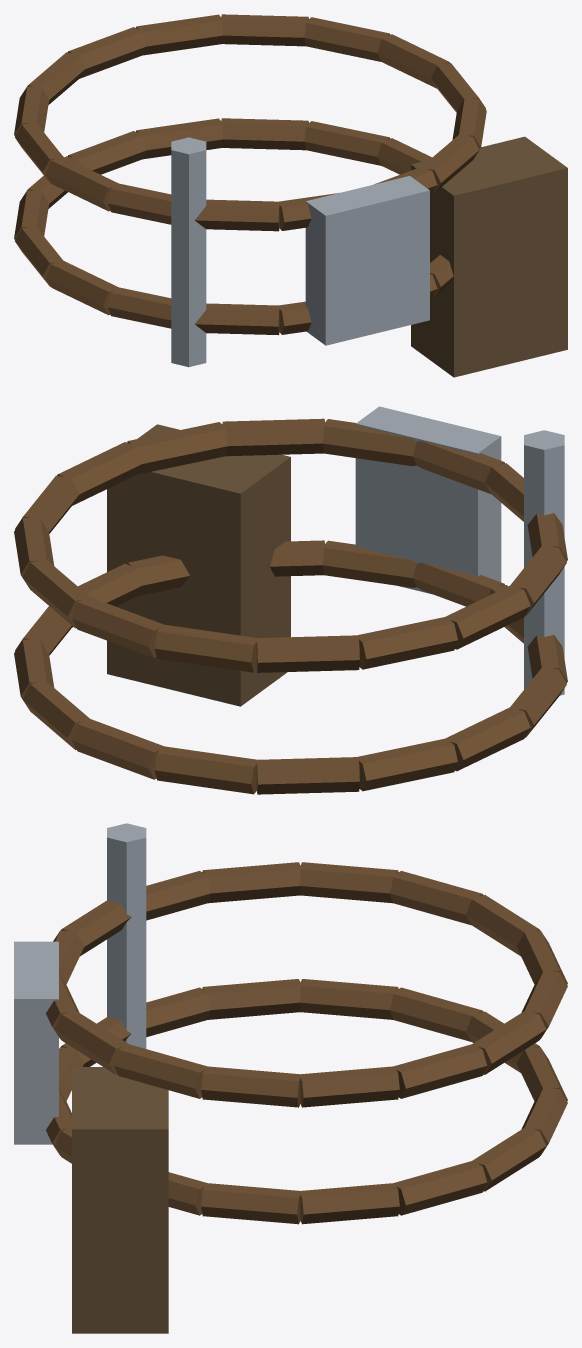
File: ironhollowBelt.glb
The picture shows the model from 3 angles, top to bottom: view 1: azimuth 30°, elevation 25°; view 2: azimuth 150°, elevation 25°; view 3: azimuth 270°, elevation 25°; orthographic projection. The views are drawn at different scales.
Parts seen in each view (by area): view 1: ironhollowBelt; view 2: ironhollowBelt; view 3: ironhollowBelt.
Boxes of the visible parts, <box> form: ironhollowBelt: <box>14,14,567,377</box>; ironhollowBelt: <box>14,406,567,794</box>; ironhollowBelt: <box>14,823,567,1333</box>.
Size of the model in its own units: 0.9884 by 0.6101 by 1.
